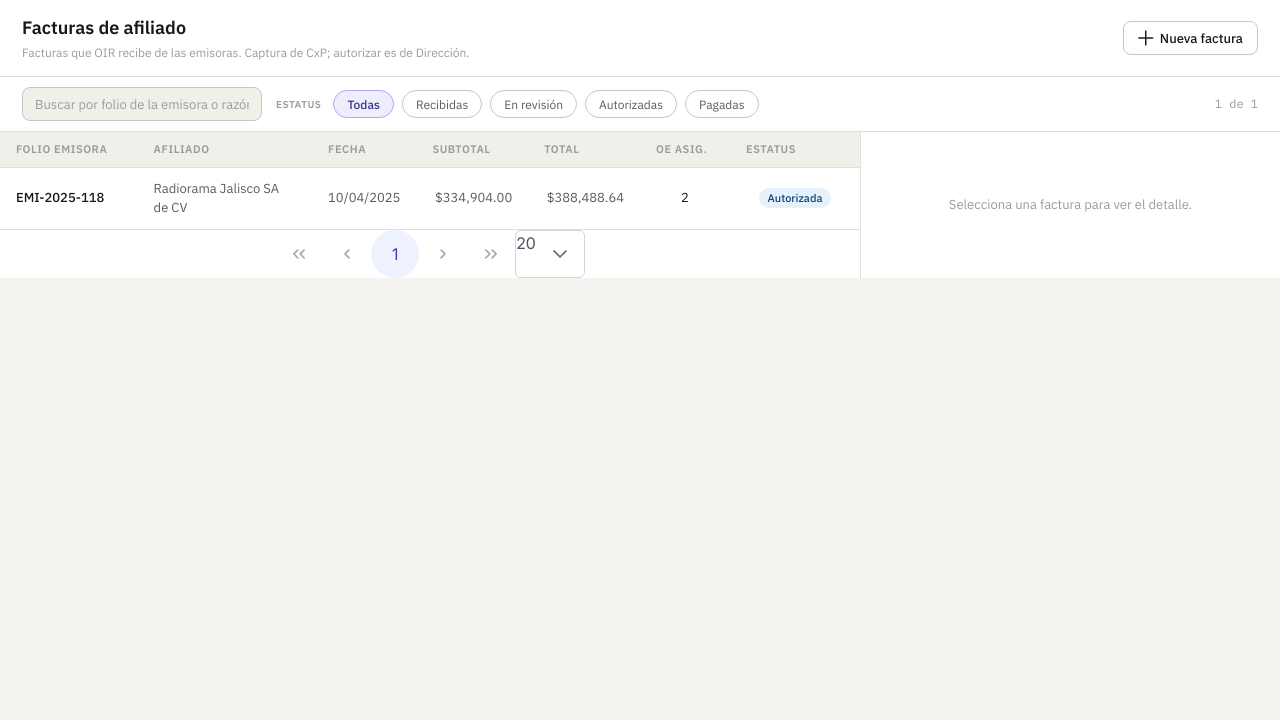
FacturasAfiliadoPage — rediseño del detalle › muestra las tarjetas Subtotal/IVA/Total
Click the text "EMI-2025-118" at [69, 198], box 0,167 -> 138,229
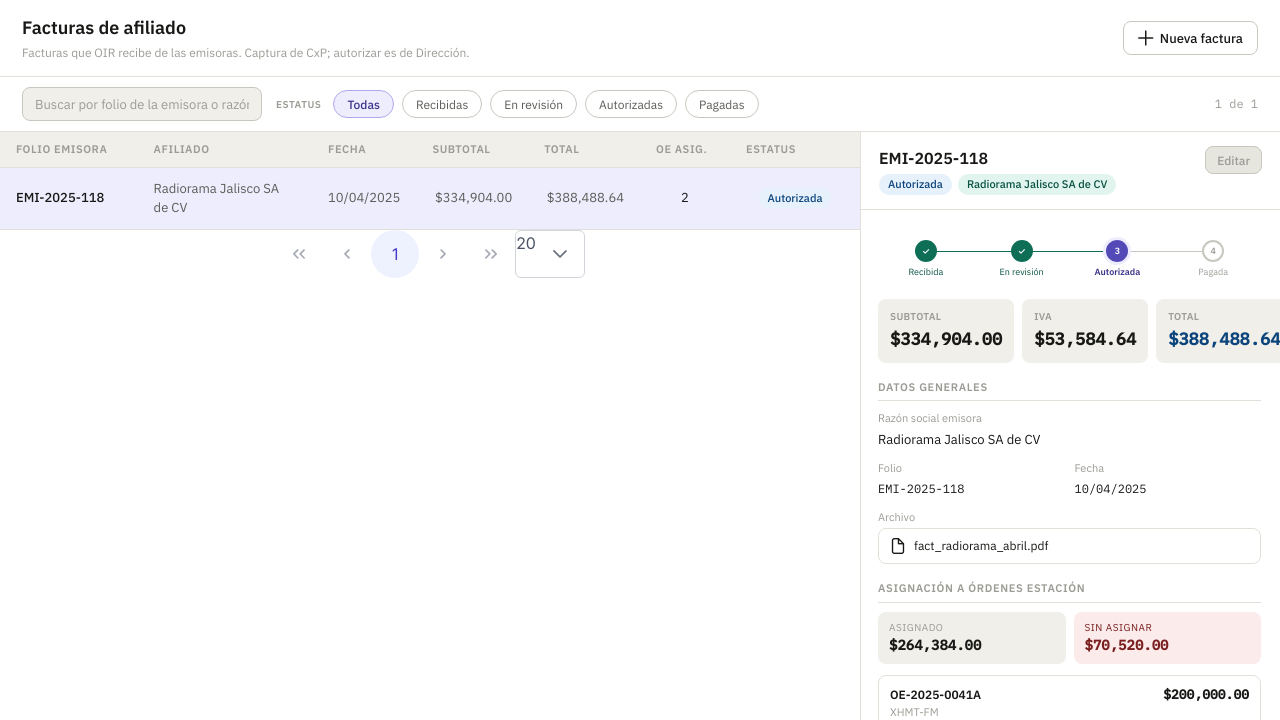
Expected: the text "Datos generales" is shown, 878,379 -> 1261,401
Expected: the text "Subtotal" is shown, 890,310 -> 941,323
Expected: the text "$334,904.00" is shown, 890,327 -> 1002,353
